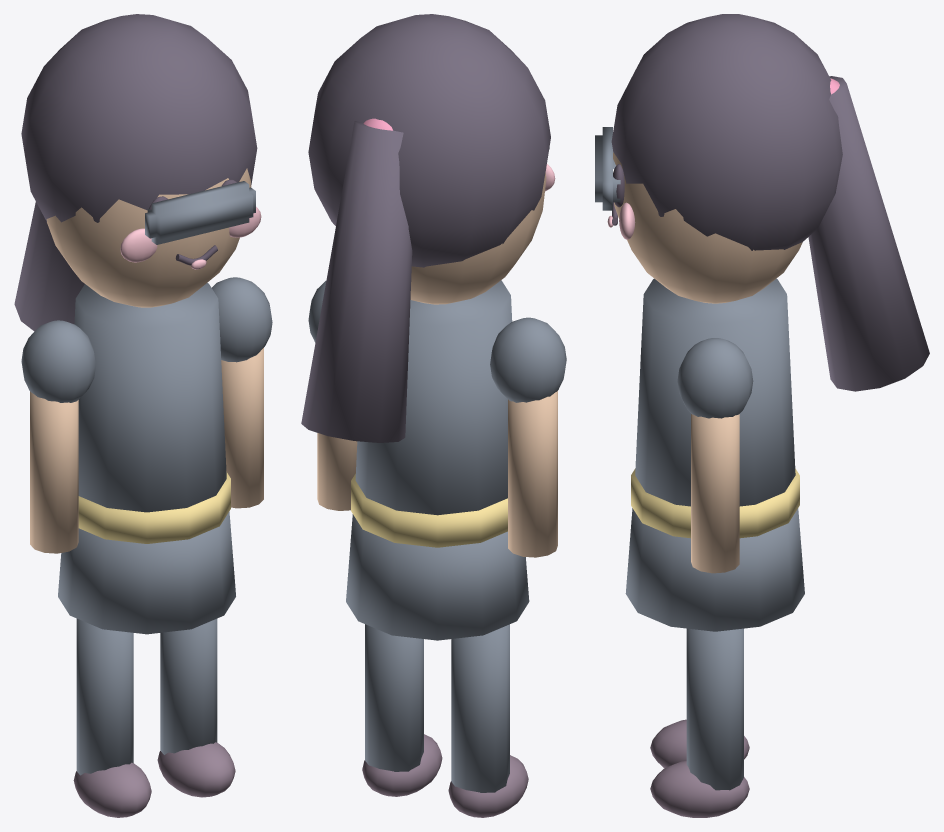
Rendered from Char_Espia.fbx.
3 renders of one model, left to right at view 1: azimuth 30°, elevation 25°; view 2: azimuth 150°, elevation 25°; view 3: azimuth 270°, elevation 25°, orthographic. The views are drawn at different scales.
Visible parts, largest first — view 1: Char_Espia; view 2: Char_Espia; view 3: Char_Espia.
Boxes of the visible parts, x1,y1,x2,y2 form: Char_Espia: (14, 14, 272, 817); Char_Espia: (301, 14, 566, 817); Char_Espia: (595, 14, 929, 817).
Bounding box in the file's own units: 0.5007 × 1.53 × 0.6016.
